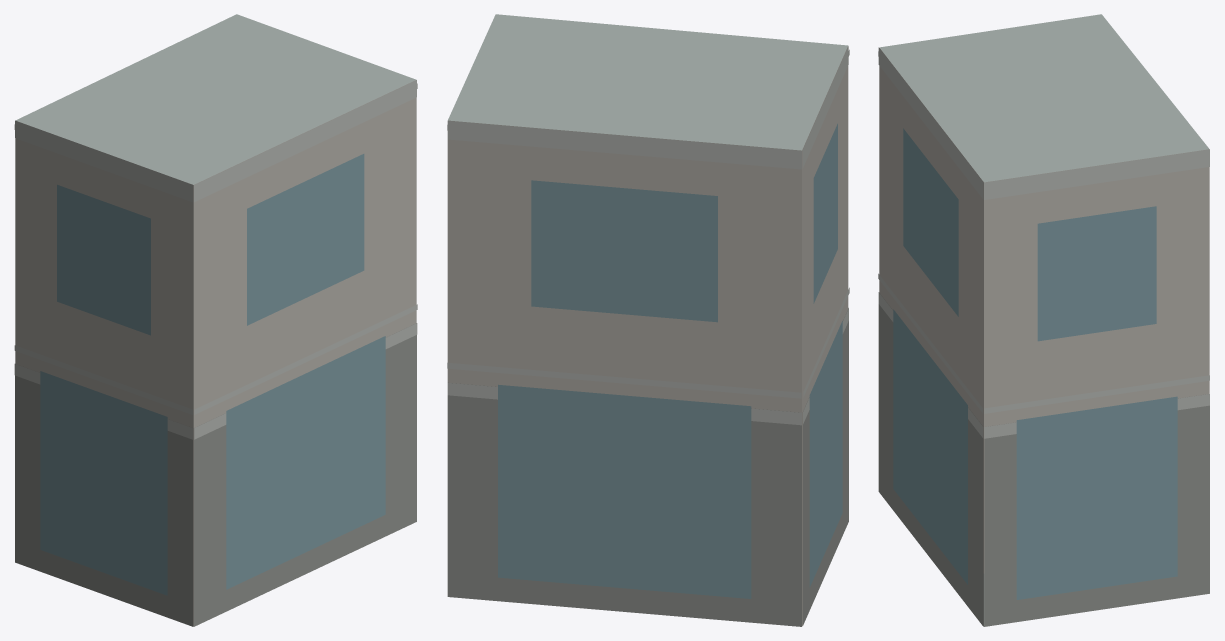
File: survey-upis-32956489.glb
3 renders of one model, left to right at view 1: azimuth 30°, elevation 25°; view 2: azimuth 150°, elevation 25°; view 3: azimuth 270°, elevation 25°, orthographic. The views are drawn at different scales.
Parts seen in each view (by area): view 1: survey-upis-32956489.tmp; view 2: survey-upis-32956489.tmp; view 3: survey-upis-32956489.tmp.
Boxes of the visible parts, box(x1,y1,x2,y2) form: survey-upis-32956489.tmp: box(14, 14, 417, 626); survey-upis-32956489.tmp: box(447, 14, 849, 626); survey-upis-32956489.tmp: box(878, 14, 1209, 626).
Bounding box in the file's own units: 4.98 × 6.1 × 4.14.
